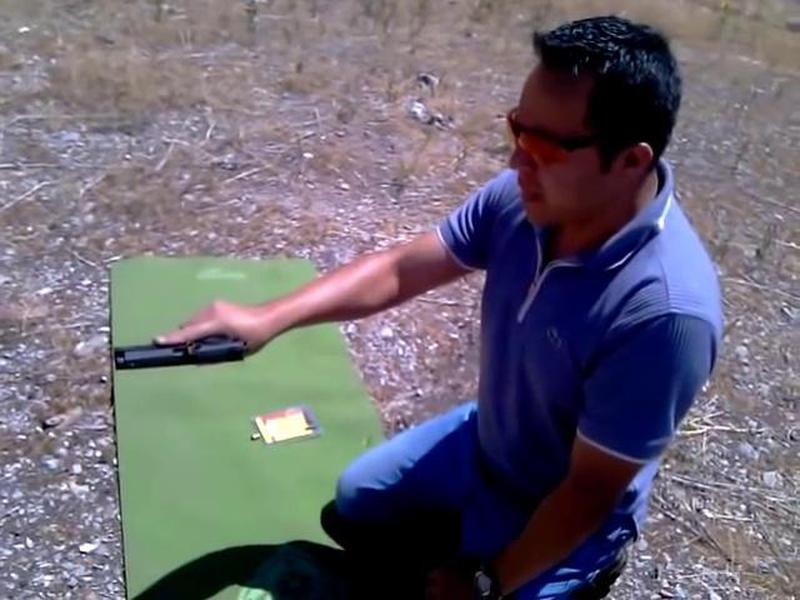Pistola: (103, 316, 253, 375)
